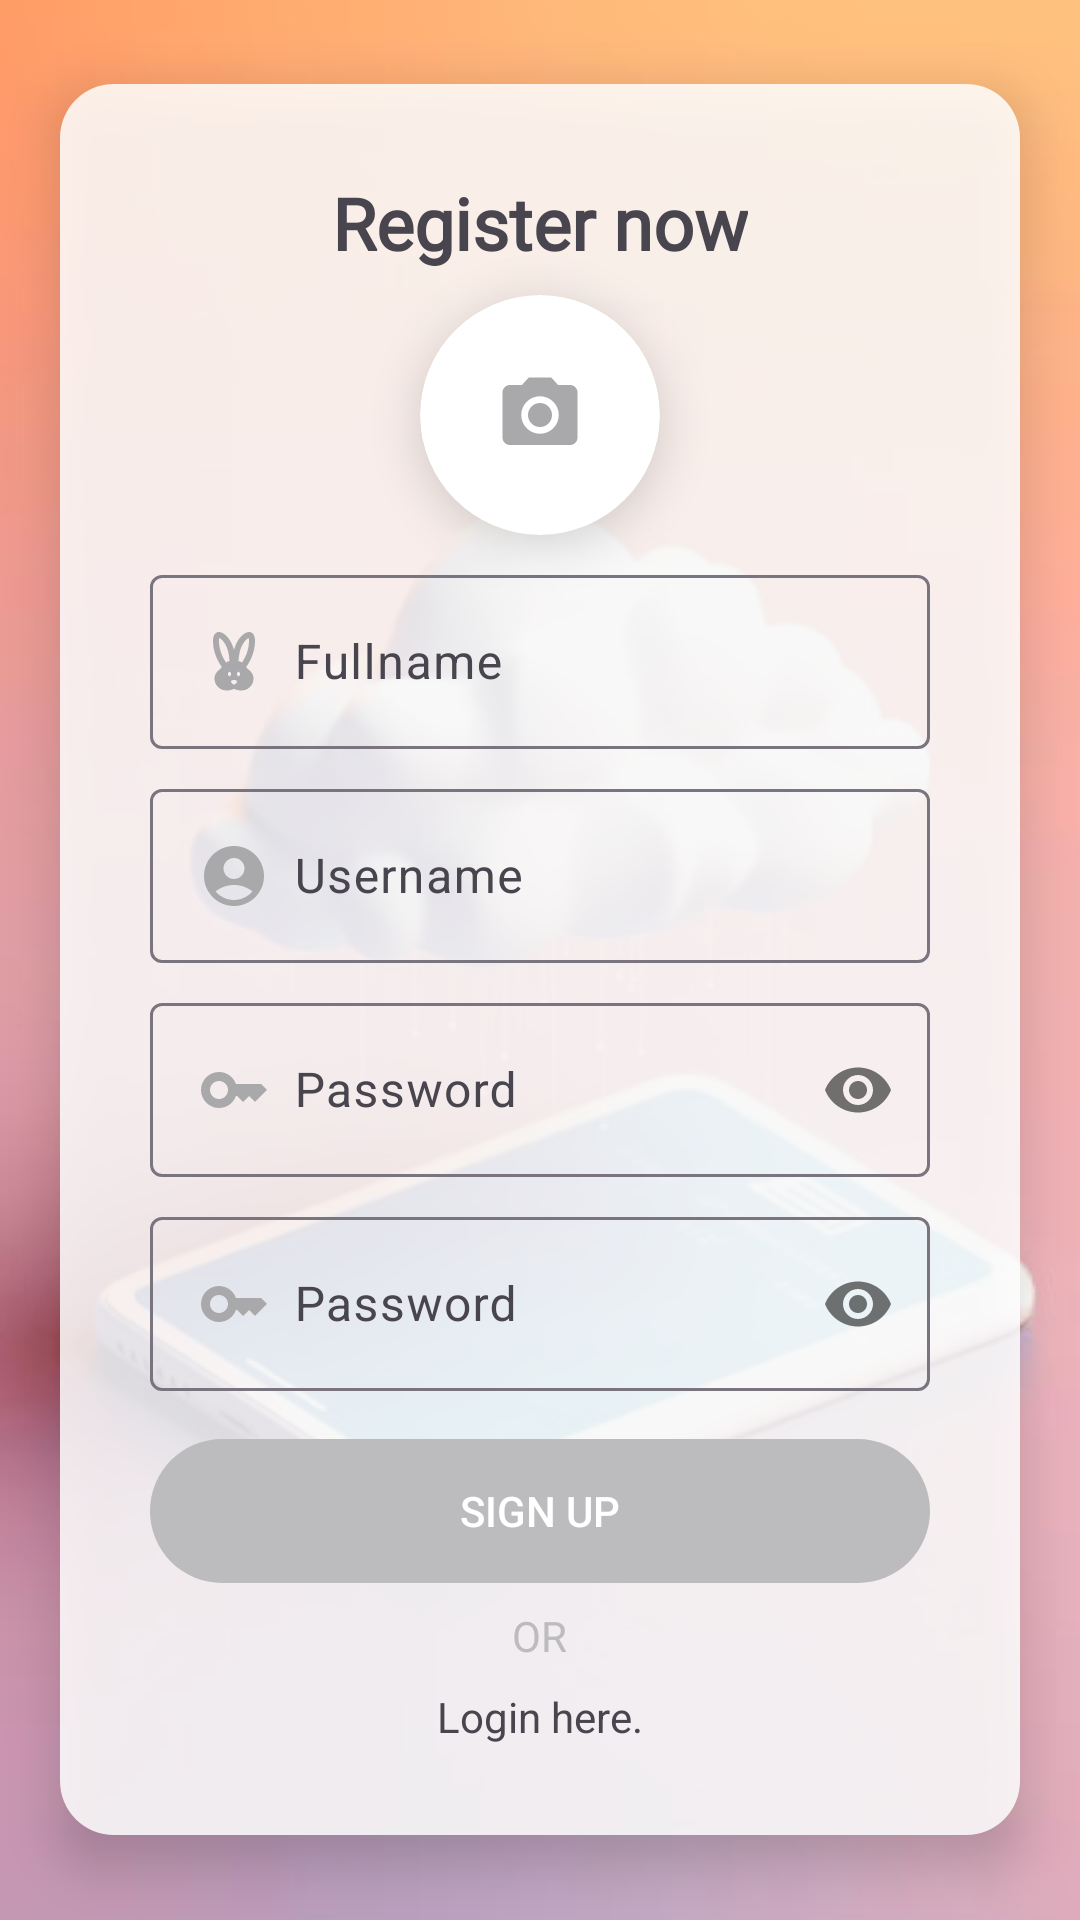

Icons on this 1080px×1920px Android screen, each with its box as box=[x1, y1, x2, y2]:
photo camera: box=[502, 377, 578, 445]
